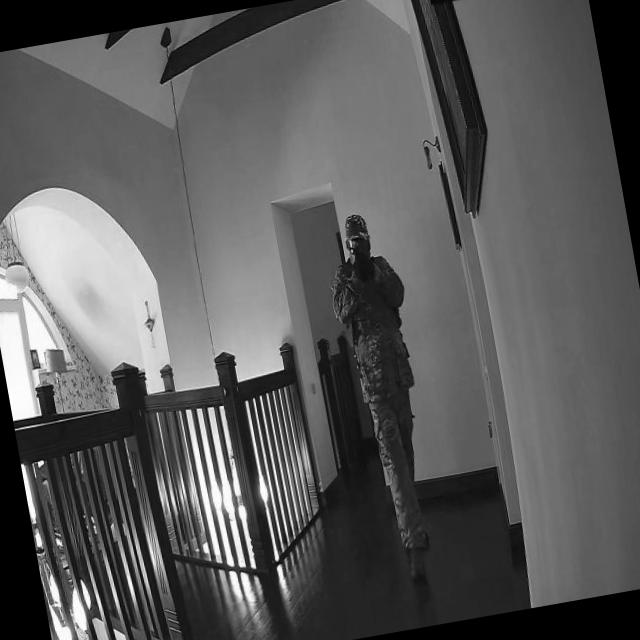person: (317, 202, 455, 590)
